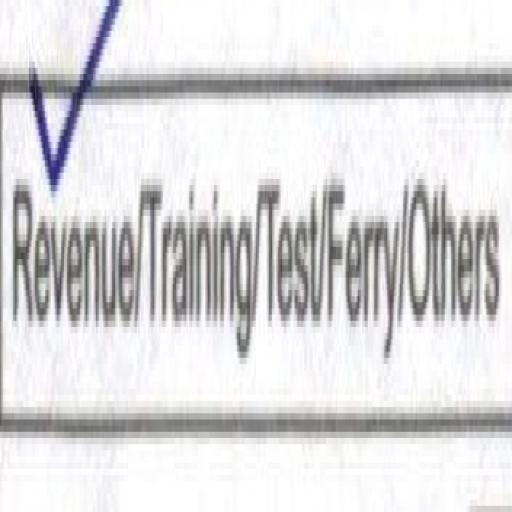check: (4, 10, 142, 442)
